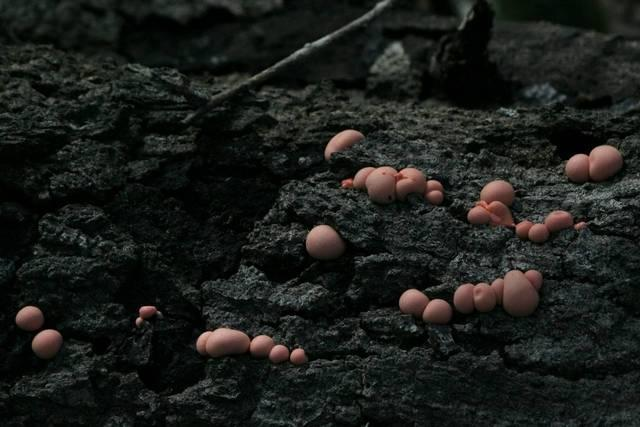Non-edible Mushroom: (397, 267, 542, 324), (340, 164, 444, 205), (501, 269, 539, 316), (304, 223, 345, 260), (323, 128, 364, 161), (588, 143, 623, 181), (205, 327, 249, 357), (364, 165, 396, 204), (394, 166, 426, 201), (30, 328, 63, 359), (479, 178, 515, 206), (398, 287, 428, 316), (14, 304, 44, 331), (421, 298, 452, 324), (563, 152, 589, 182), (137, 304, 157, 319)
